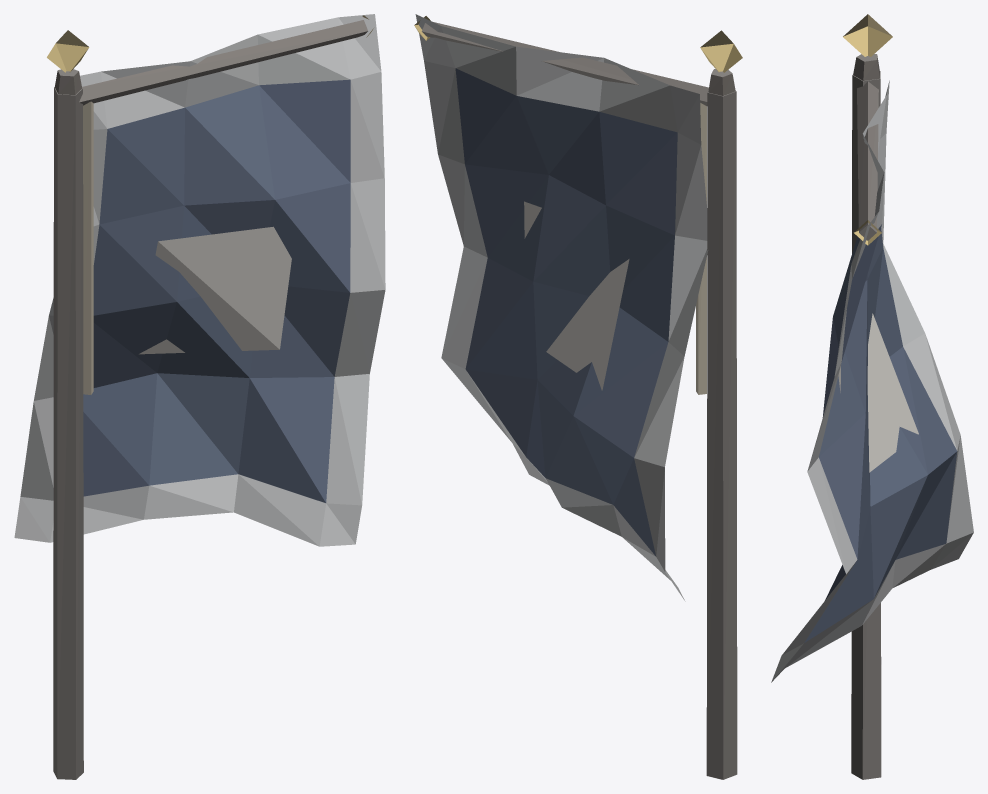
The model's file is flag.notched.dianqi__pole.stick.fangun__armHang.glb.
3 views of the same model, side by side, from view 1: azimuth 30°, elevation 25°; view 2: azimuth 150°, elevation 25°; view 3: azimuth 270°, elevation 25° (orthographic). The views are drawn at different scales.
Visible parts, largest first — view 1: flag.notched.dianqi; view 2: flag.notched.dianqi; view 3: flag.notched.dianqi.
Part boxes in pixels (left/top/right/bottom): flag.notched.dianqi: left=14, top=14, right=385, bottom=779; flag.notched.dianqi: left=414, top=14, right=742, bottom=779; flag.notched.dianqi: left=771, top=14, right=973, bottom=779.
Size of the model in its own units: 1.06 by 2.28 by 0.5532.
